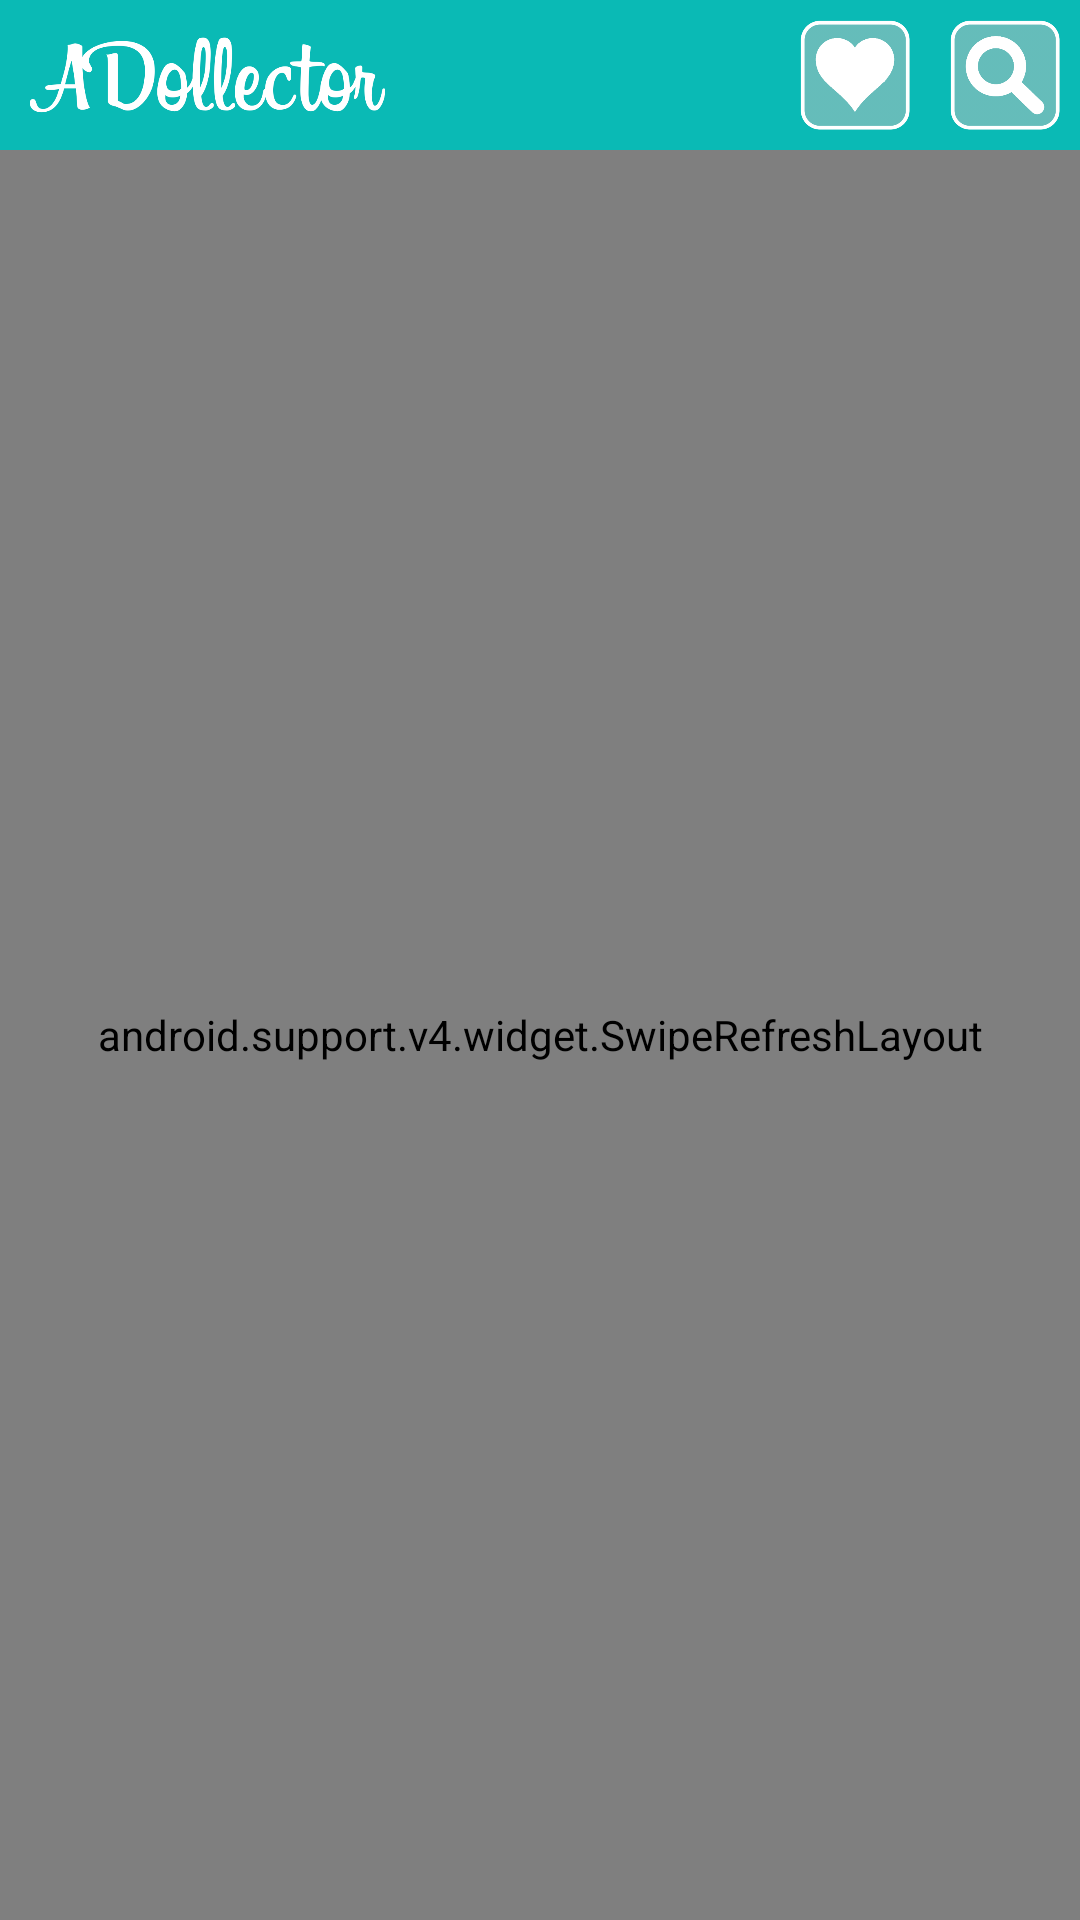

Screen size 1080*1920. Icon name, then its box in pixels as (x1, y1, x2, y2):
search: (951, 21, 1060, 130)
